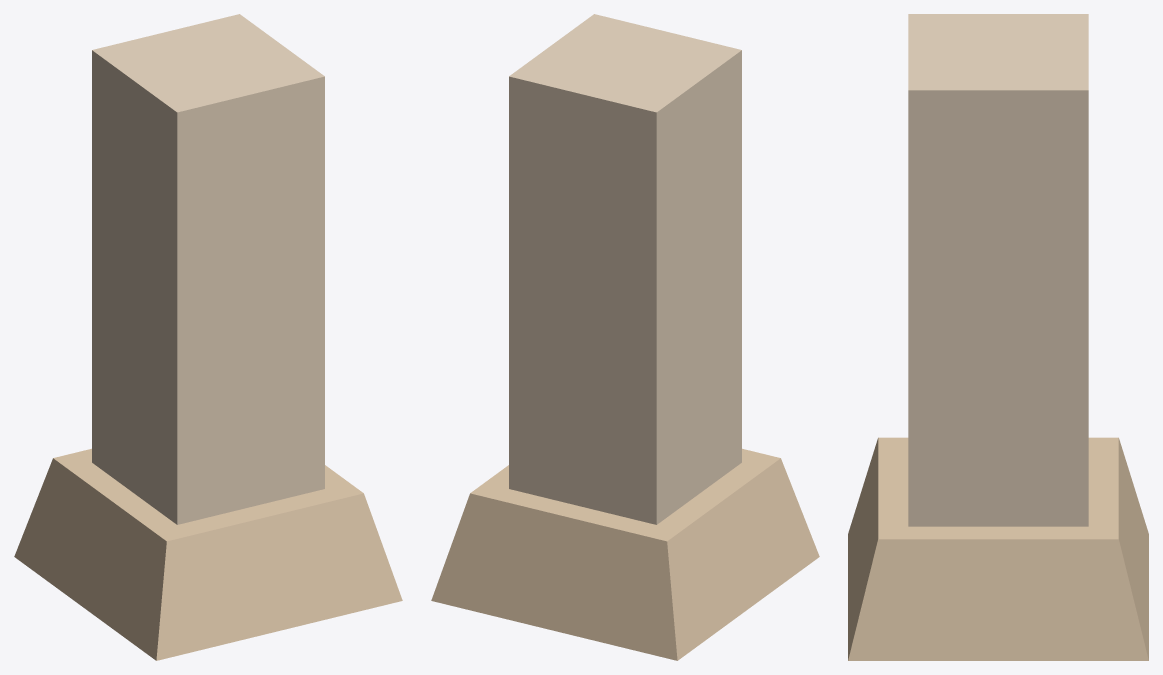
The model's file is opengameart-modular-temple-3d-models_15.glb.
3 views of the same model, side by side, from view 1: azimuth 30°, elevation 25°; view 2: azimuth 150°, elevation 25°; view 3: azimuth 270°, elevation 25° (orthographic). The views are drawn at different scales.
Visible parts, largest first — view 1: object1, object2; view 2: object1, object2; view 3: object1, object2.
Part boxes in pixels (x1,y1,x2,y2): object1: (92, 14, 324, 524); object2: (14, 448, 402, 660); object1: (509, 14, 741, 524); object2: (431, 448, 819, 660); object1: (908, 14, 1088, 526); object2: (848, 437, 1148, 660).
Bounding box in the file's own units: 0.5 × 1 × 0.5.
